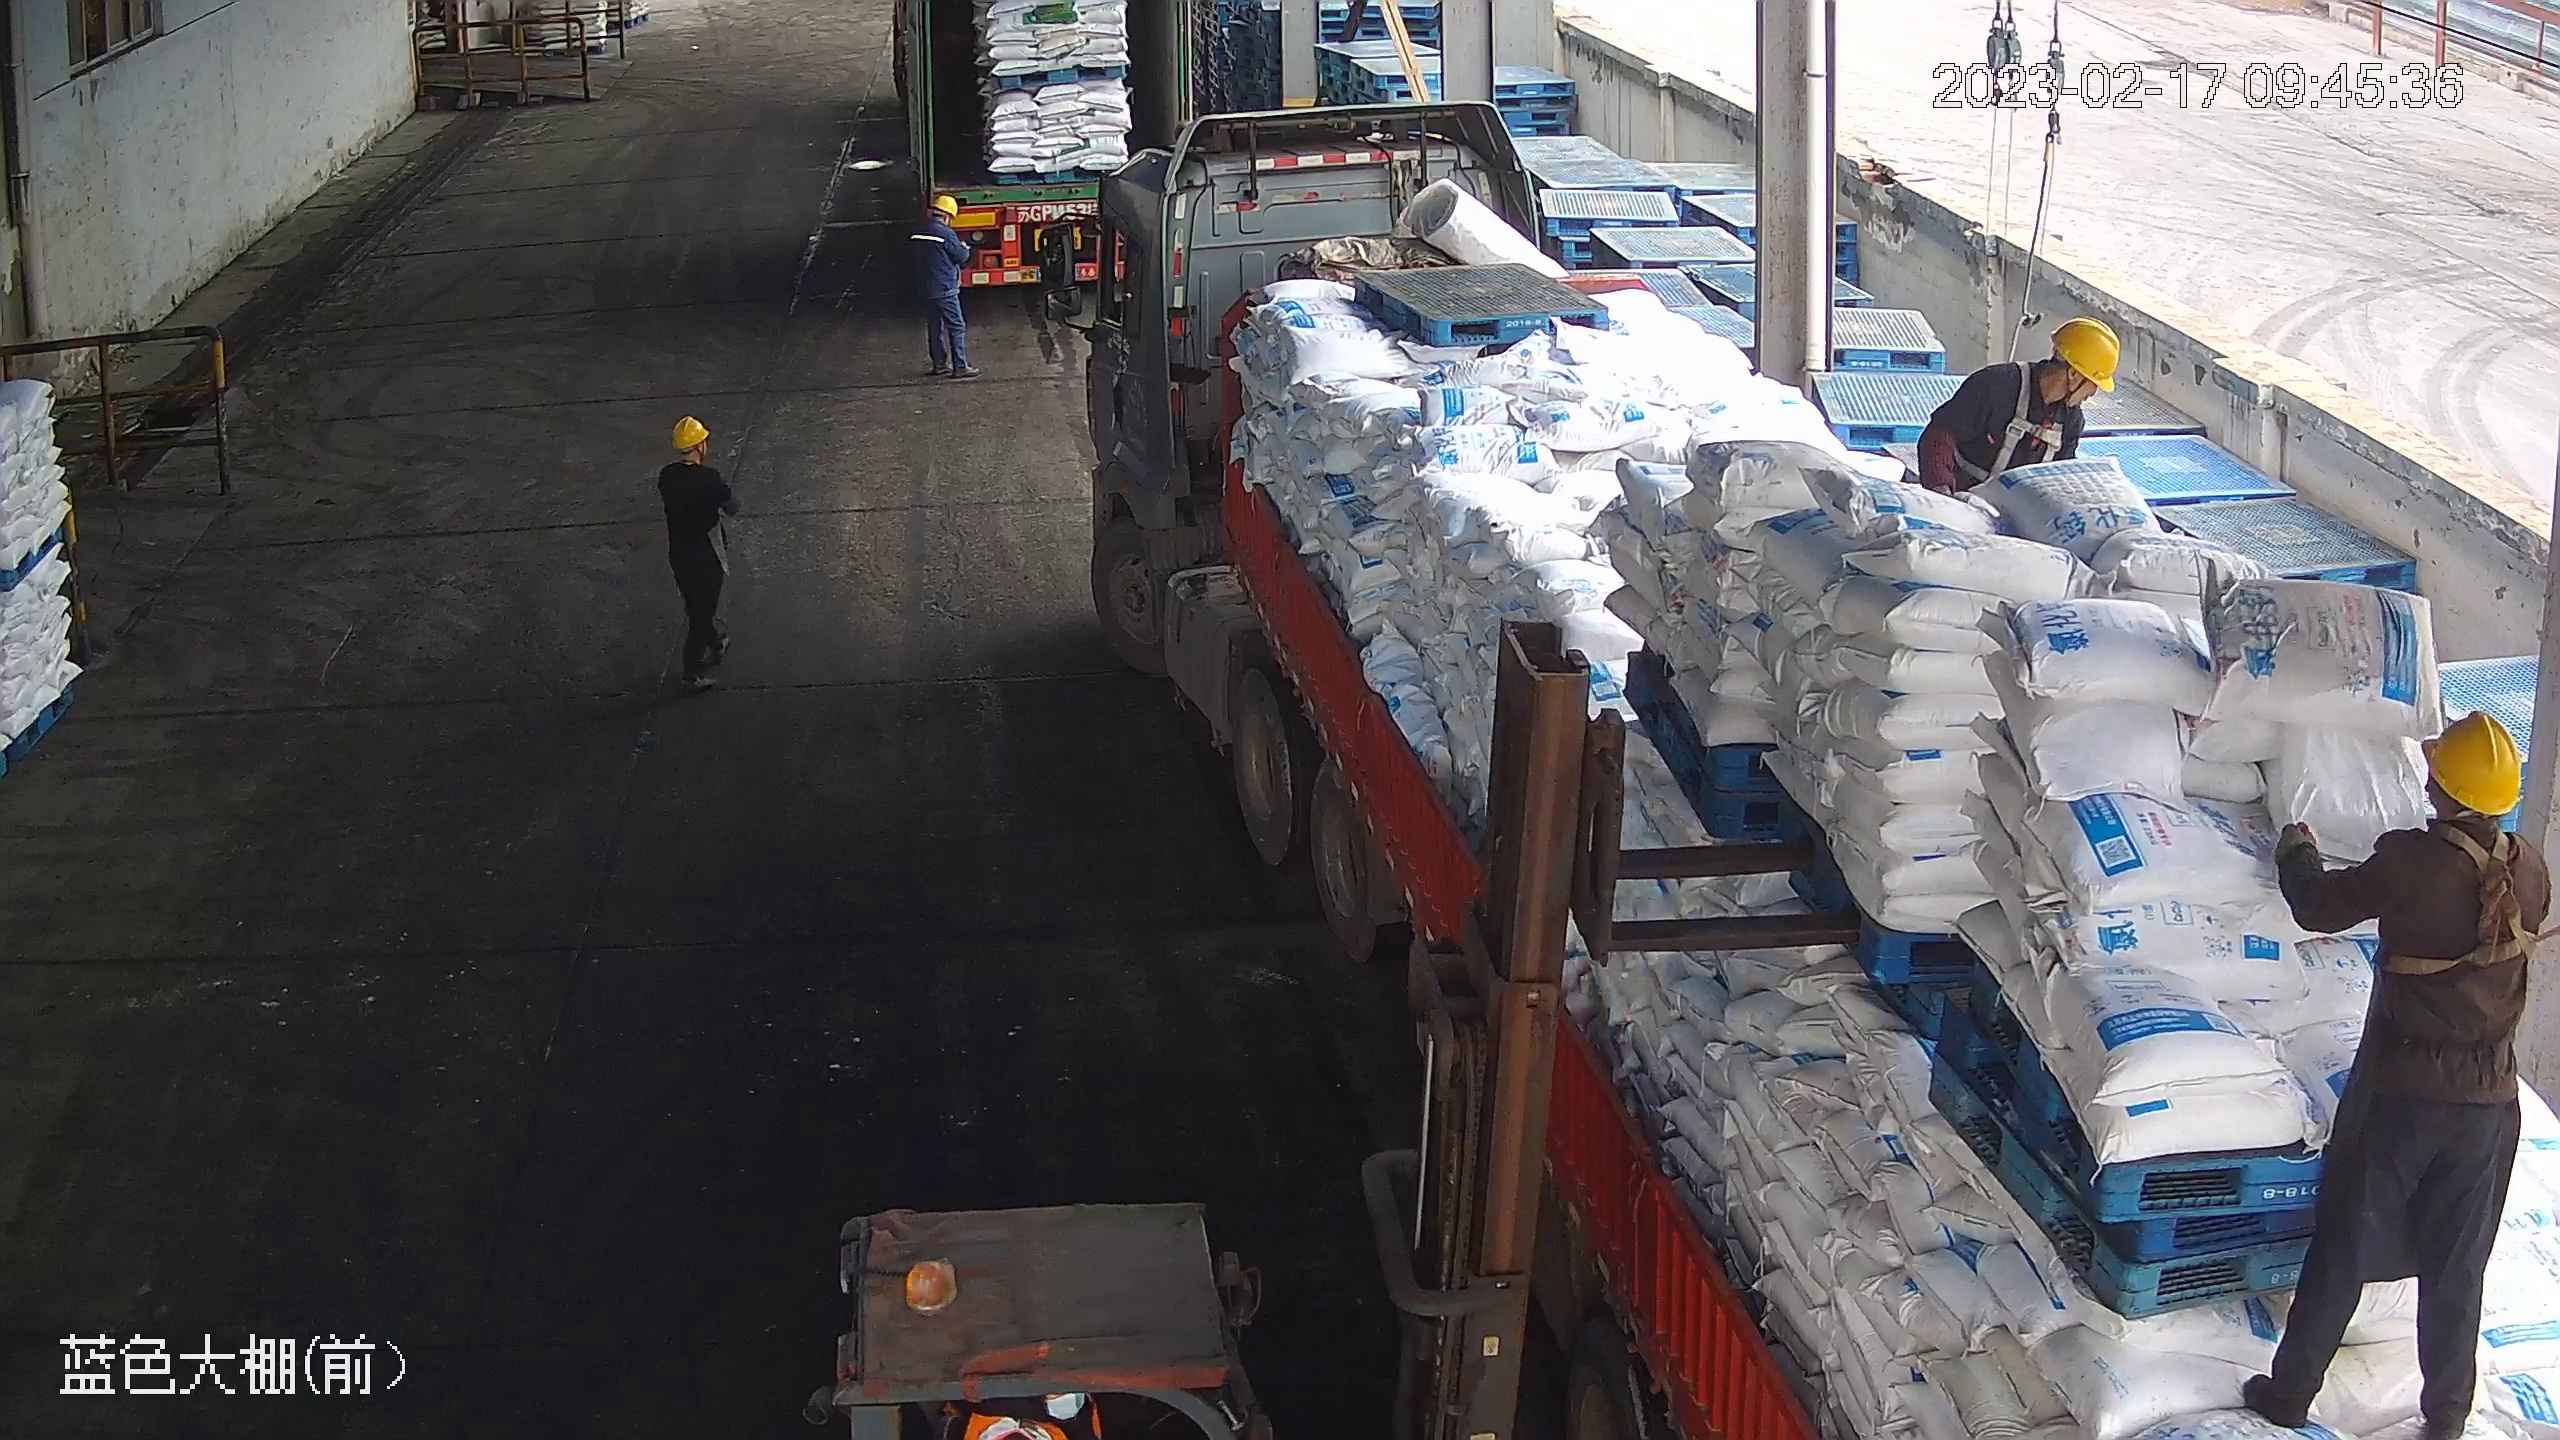belt: (2385, 821, 2546, 981), (1998, 364, 2067, 463)
head: (2281, 711, 2557, 922), (1961, 309, 2121, 439), (656, 416, 734, 495), (910, 192, 964, 250)
helmet: (2421, 708, 2521, 819), (2049, 311, 2122, 394), (670, 415, 710, 448), (926, 192, 955, 217)
people: (2256, 711, 2552, 1431), (655, 414, 742, 692), (906, 190, 970, 382)
truck: (1069, 132, 2558, 1434), (900, 1, 1186, 298)
